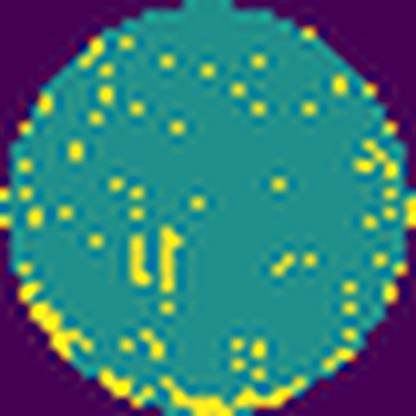Edge-Loc: (20, 264, 100, 359), (162, 373, 313, 416), (98, 368, 159, 412)
